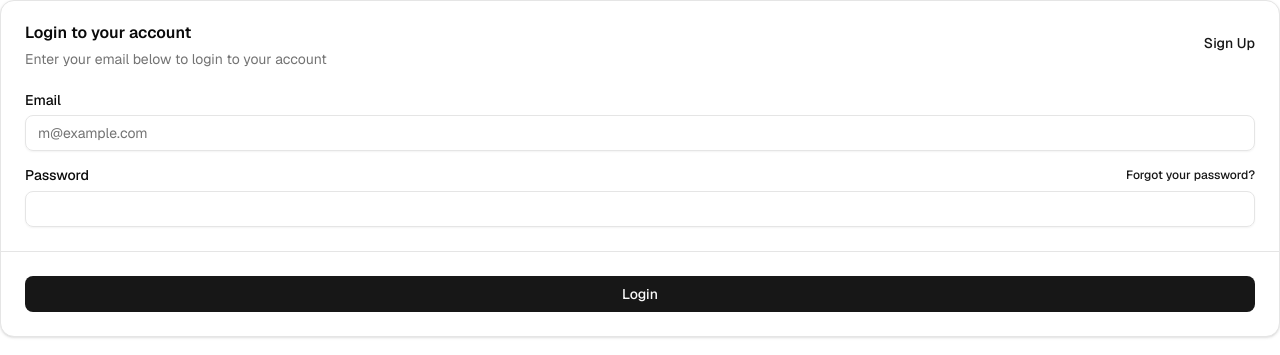
Test: LoginForm › disables submit button while pending
Type "user@example.com" into the field labelled "Email" at (640, 133), box [25,115,1255,151]
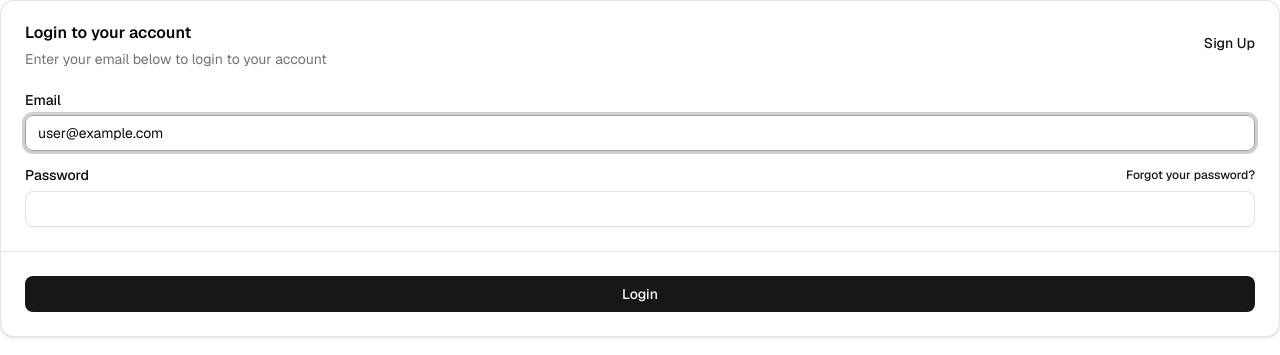
Type "password123" into the password field labelled "Password" at (640, 209), box [25,191,1255,227]
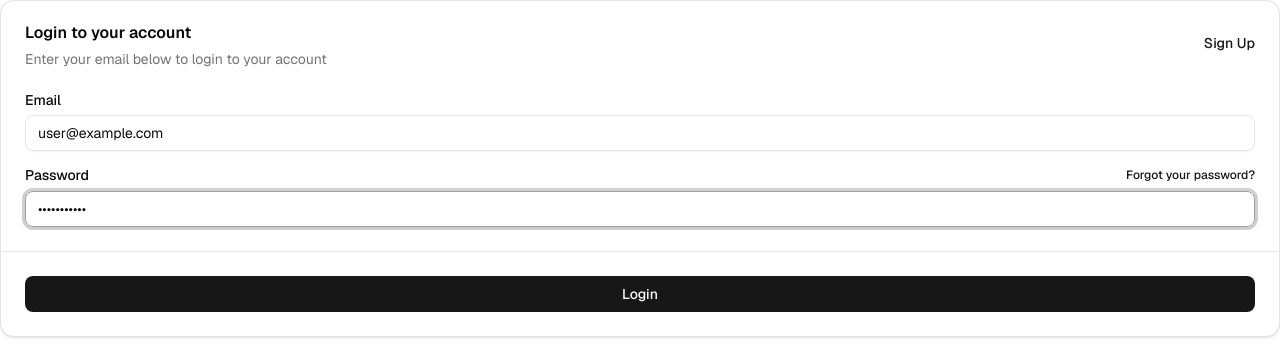
Click the button "Login" at (640, 294), box [25,276,1255,312]
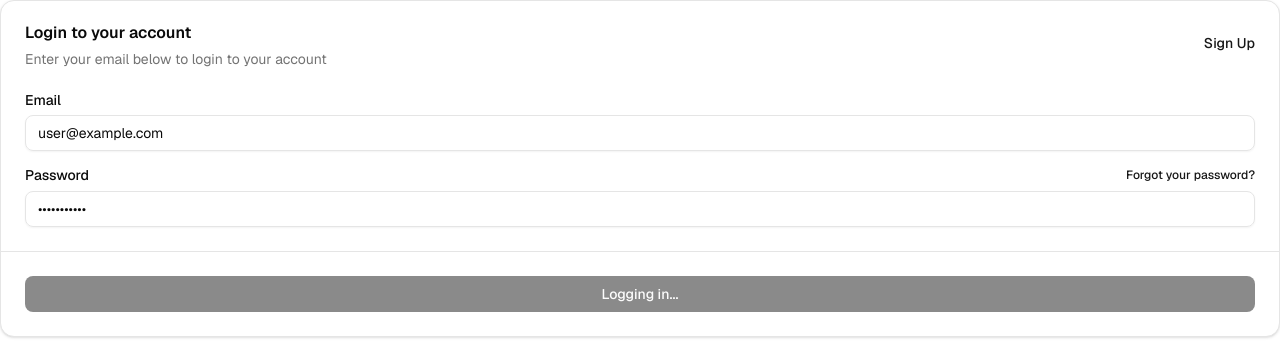
Now the button named "login" is disabled, box [25,276,1255,312]
Now the button named "login" shows "Logging in", box [25,276,1255,312]
